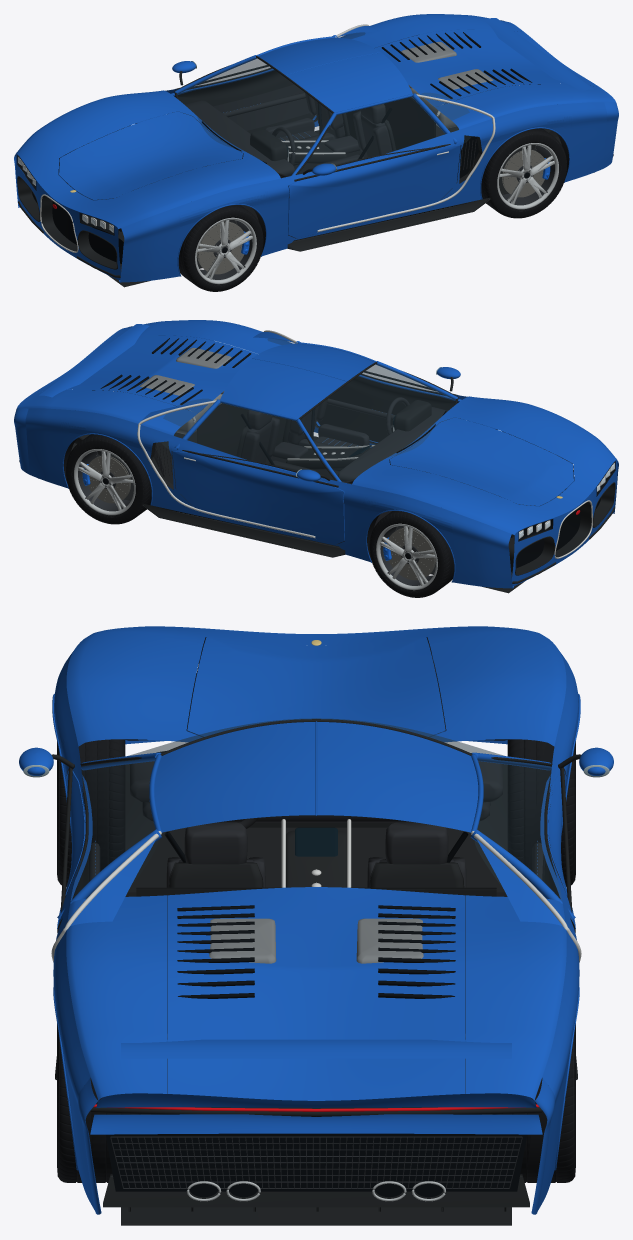
The picture shows the model from 3 angles, top to bottom: view 1: azimuth 30°, elevation 25°; view 2: azimuth 150°, elevation 25°; view 3: azimuth 270°, elevation 25°; orthographic projection. The views are drawn at different scales.
Parts seen in each view (by area): view 1: chiron_side_sculpted_skin_-1, chiron_front_quarter_skin, chiron_compound_wraparound_windshield, chiron_door_outer_skin_-1, chiron_front_luggage_lid, chiron_curved_canopy_roof_0, chiron_rear_centre_deck_skin, chiron_rounded_side_door_glass_-1, chiron_rear_haunch_skin_-1, chiron_rear_right_tire, chiron_rear_haunch_skin_1, chiron_front_right_tire (+36 smaller); view 2: chiron_side_sculpted_skin_1, chiron_front_quarter_skin, chiron_compound_wraparound_windshield, chiron_door_outer_skin_1, chiron_front_luggage_lid, chiron_curved_canopy_roof_0, chiron_rear_centre_deck_skin, chiron_rounded_side_door_glass_1, chiron_rear_haunch_skin_1, chiron_door_inner_carbon_shell_-1, chiron_rear_left_tire, chiron_rear_haunch_skin_-1 (+34 smaller); view 3: chiron_rear_centre_deck_skin, chiron_front_quarter_skin, chiron_curved_canopy_roof_0, chiron_rear_grille_shadow, chiron_front_luggage_lid, chiron_underfloor_carbon_pan, chiron_rear_haunch_skin_-1, chiron_rear_haunch_skin_1, chiron_rear_bumper_skin, chiron_rear_engine_vent_mesh, chiron_rear_wing_stowed, chiron_rear_diffuser_ramp (+35 smaller).
Part boxes in pixels (x1,y1,x2,y2): chiron_side_sculpted_skin_-1: (120, 102, 607, 282); chiron_front_quarter_skin: (16, 90, 280, 228); chiron_compound_wraparound_windshield: (177, 58, 332, 175); chiron_door_outer_skin_-1: (288, 145, 460, 238); chiron_front_luggage_lid: (59, 111, 242, 199); chiron_curved_canopy_roof_0: (258, 37, 412, 112); chiron_rear_centre_deck_skin: (375, 29, 598, 107); chiron_rounded_side_door_glass_-1: (298, 97, 444, 174); chiron_rear_haunch_skin_-1: (435, 84, 615, 129); chiron_rear_right_tire: (481, 128, 566, 218); chiron_rear_haunch_skin_1: (340, 14, 523, 47); chiron_front_right_tire: (178, 205, 263, 291); chiron_side_sculpted_skin_1: (25, 408, 512, 588); chiron_front_quarter_skin: (352, 396, 616, 534); chiron_compound_wraparound_windshield: (300, 364, 455, 481); chiron_door_outer_skin_1: (172, 451, 344, 544); chiron_front_luggage_lid: (390, 417, 573, 505); chiron_curved_canopy_roof_0: (220, 343, 374, 418); chiron_rear_centre_deck_skin: (34, 335, 257, 413); chiron_rounded_side_door_glass_1: (188, 403, 334, 480); chiron_rear_haunch_skin_1: (17, 390, 197, 435); chiron_door_inner_carbon_shell_-1: (317, 376, 460, 442); chiron_rear_left_tire: (66, 434, 164, 524); chiron_rear_haunch_skin_-1: (109, 320, 292, 353); chiron_rear_centre_deck_skin: (167, 887, 465, 1100); chiron_front_quarter_skin: (66, 626, 566, 746); chiron_curved_canopy_roof_0: (154, 722, 478, 832); chiron_rear_grille_shadow: (106, 1133, 526, 1191); chiron_front_luggage_lid: (187, 637, 445, 736); chiron_underfloor_carbon_pan: (121, 764, 511, 1225); chiron_rear_haunch_skin_-1: (66, 895, 167, 1100); chiron_rear_haunch_skin_1: (465, 895, 566, 1100); chiron_rear_bumper_skin: (90, 1093, 542, 1134); chiron_rear_engine_vent_mesh: (110, 1136, 522, 1188); chiron_rear_wing_stowed: (121, 1039, 511, 1058); chiron_rear_diffuser_ramp: (103, 1174, 529, 1207).
Bounding box in the file's own units: 4.55 × 1.21 × 2.31.
